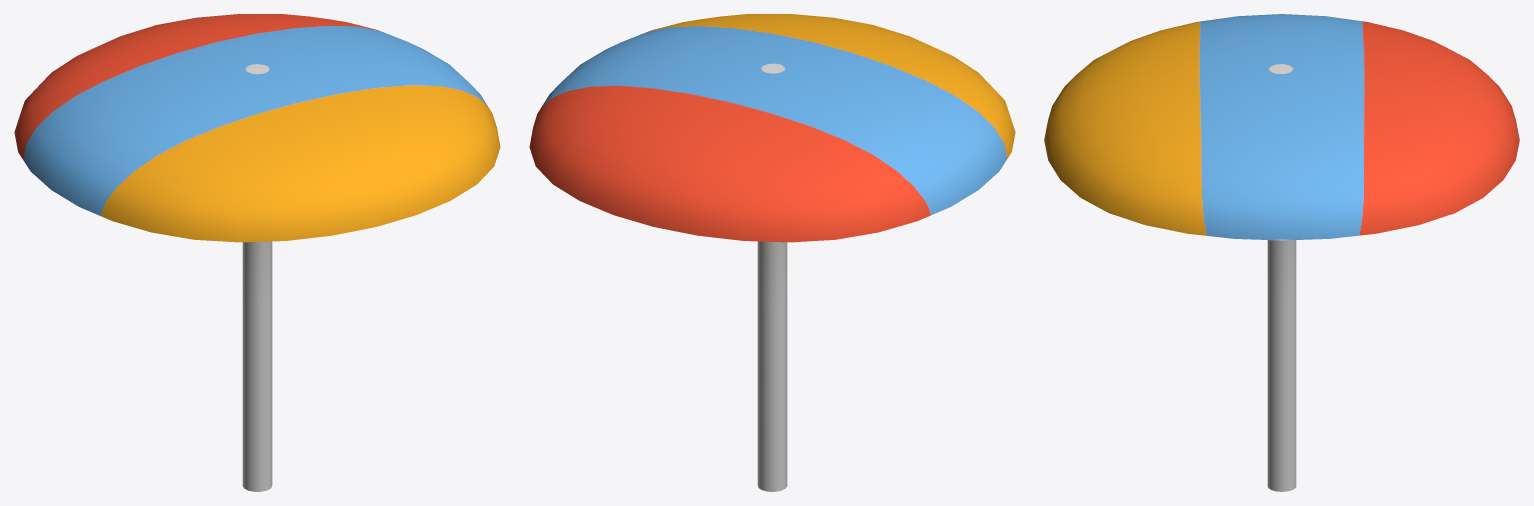
The model's file is Umbrella.fbx.
3 views of the same model, side by side, from view 1: azimuth 30°, elevation 25°; view 2: azimuth 150°, elevation 25°; view 3: azimuth 270°, elevation 25° (orthographic).
Visible parts, largest first — view 1: Umbrella; view 2: Umbrella; view 3: Umbrella.
Boxes of the visible parts, x1=… form: Umbrella: x1=14, y1=14, x2=500, y2=491; Umbrella: x1=529, y1=14, x2=1015, y2=491; Umbrella: x1=1044, y1=14, x2=1519, y2=491.
Size of the model in its own units: 555 by 536 by 555.
